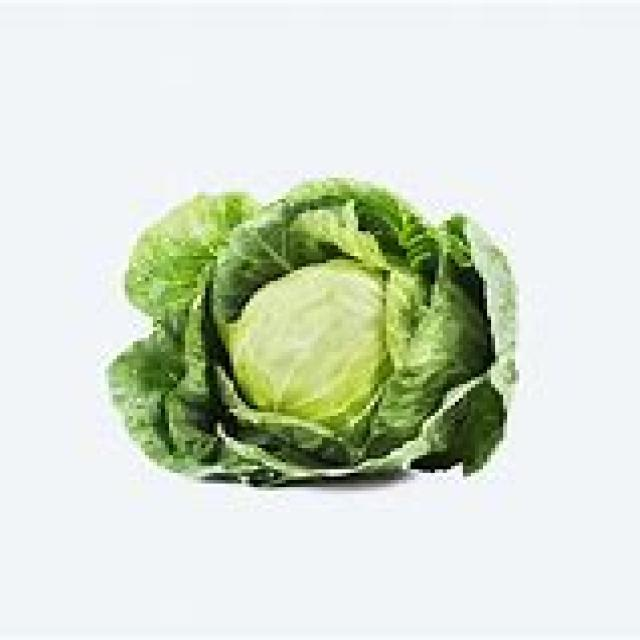cabbage: (127, 192, 518, 498)
